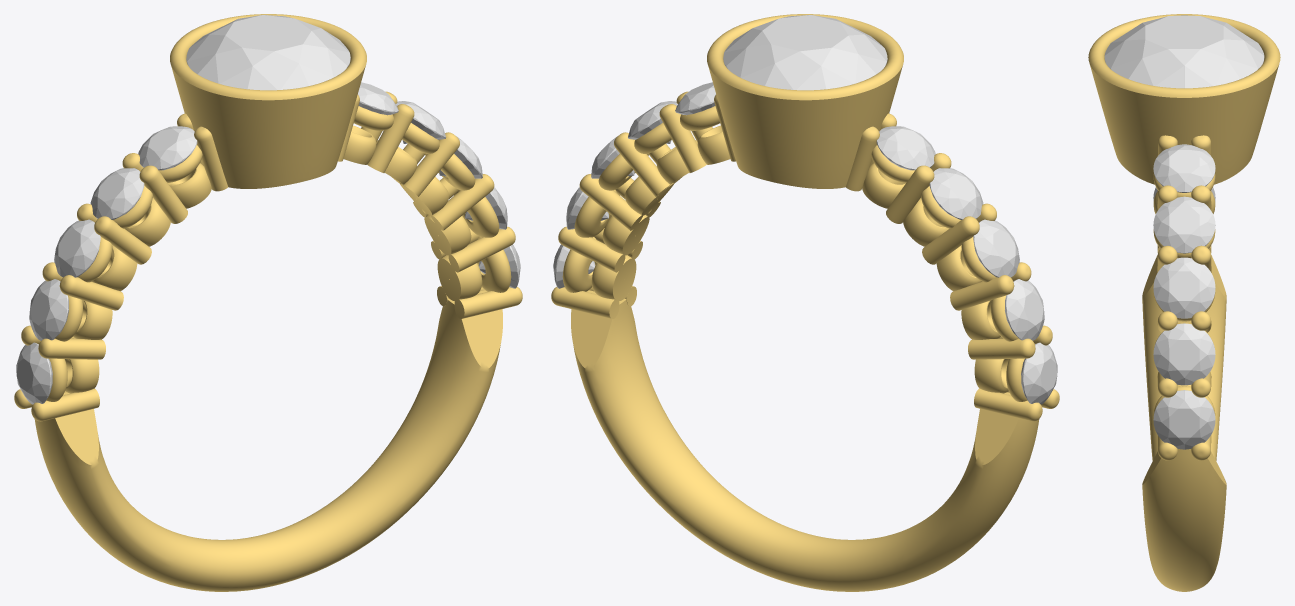
Rendered from diamond-round-yellowgold-bezelset-taperedband-11stone.glb.
The picture shows the model from 3 angles, left to right: view 1: azimuth 30°, elevation 25°; view 2: azimuth 150°, elevation 25°; view 3: azimuth 270°, elevation 25°; orthographic projection. The views are drawn at different scales.
Parts seen in each view (by area): view 1: metal, stone, side.001, side.002, side, side.003, side.004, side.005, side.006; view 2: metal, stone, side.001, side.002, side, side.003, side.004, side.005, side.006; view 3: metal, stone, side.008, side.007, side.009, side.006, side.005.
Boxes of the visible parts, <box> form: metal: <box>14,14,522,591</box>; stone: <box>186,15,350,90</box>; side.001: <box>90,168,144,219</box>; side.002: <box>54,219,100,277</box>; side: <box>138,126,197,170</box>; side.003: <box>29,279,68,340</box>; side.004: <box>16,342,52,404</box>; side.005: <box>358,82,398,115</box>; side.006: <box>396,101,445,143</box>; metal: <box>551,14,1059,591</box>; stone: <box>723,15,887,90</box>; side.001: <box>929,168,983,219</box>; side.002: <box>973,219,1019,277</box>; side: <box>876,126,935,170</box>; side.003: <box>1005,279,1044,340</box>; side.004: <box>1021,342,1057,404</box>; side.005: <box>675,82,715,115</box>; side.006: <box>628,101,677,143</box>; metal: <box>1088,14,1280,591</box>; stone: <box>1104,15,1264,88</box>; side.008: <box>1153,323,1215,385</box>; side.007: <box>1153,257,1215,318</box>; side.009: <box>1153,390,1215,449</box>; side.006: <box>1153,196,1215,253</box>; side.005: <box>1153,144,1215,192</box>.
Size of the model in its own units: 22.19 by 23.81 by 7.74.
